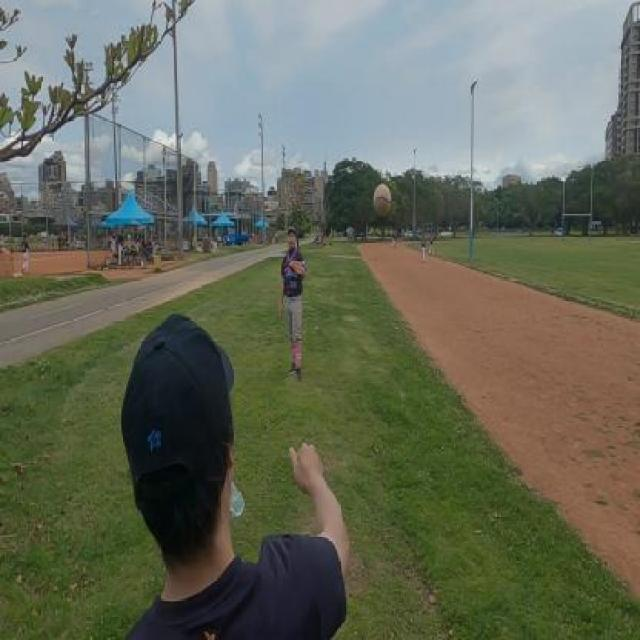baseball: (373, 181, 392, 217)
